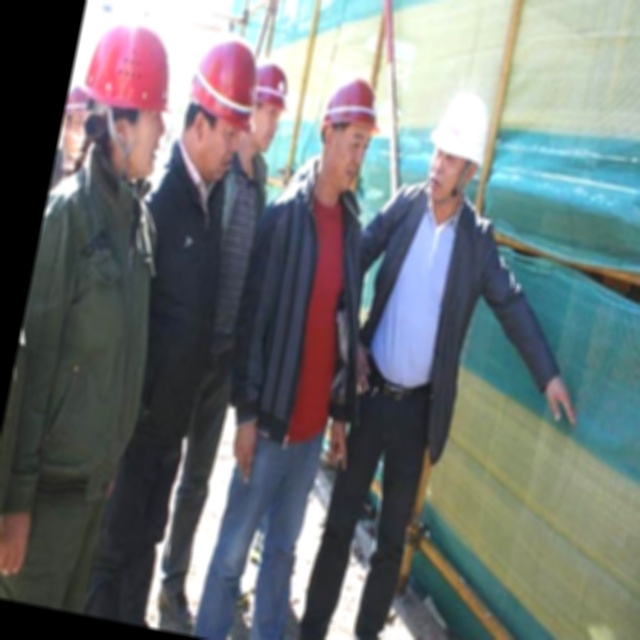Sin_Chaleco: (226, 184, 373, 449), (354, 188, 502, 409)
